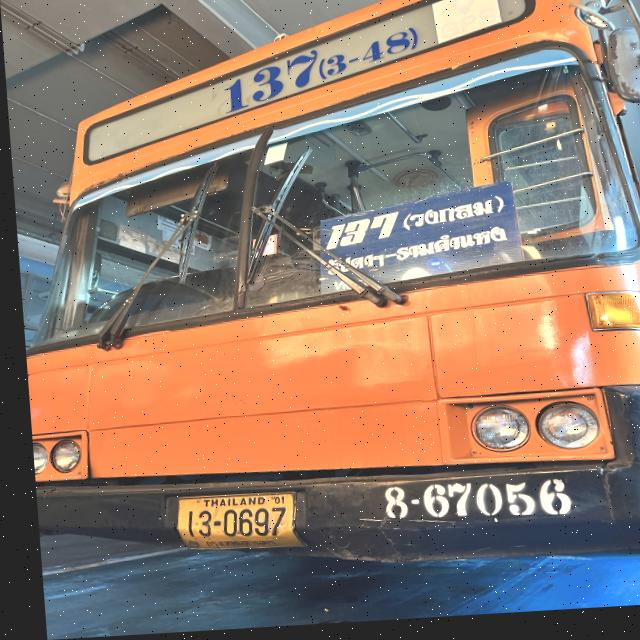BMTA-bus: (20, 0, 640, 571)
Bus Line Number: (208, 11, 425, 123)
Bus Side Number: (359, 477, 575, 536)
Destination Sign: (316, 183, 518, 298)
